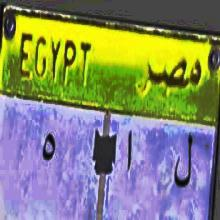5: (41, 126, 58, 173)
alif: (124, 122, 134, 178)
laam: (172, 129, 194, 199)
